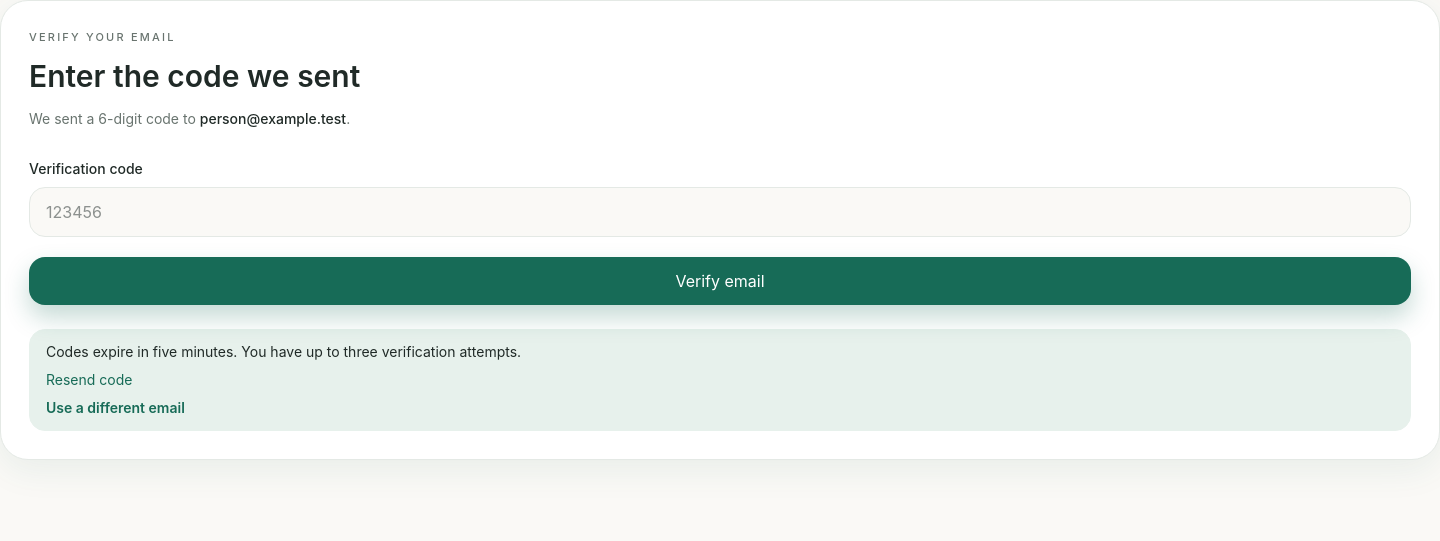
it: VerificationForm › resends through the server and shows cooldown errors
Click the button "Resend code". click: (89, 380)
box: [46,370,132,390]
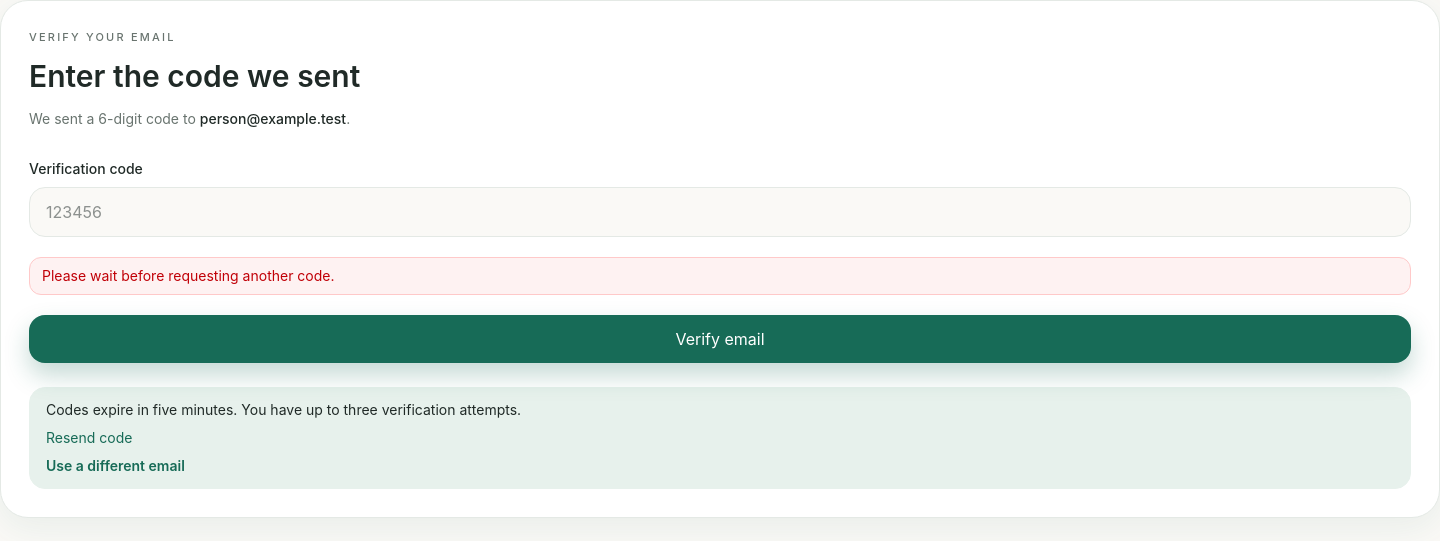
expect the message shows "Please wait": met, box [42,267,334,284]
